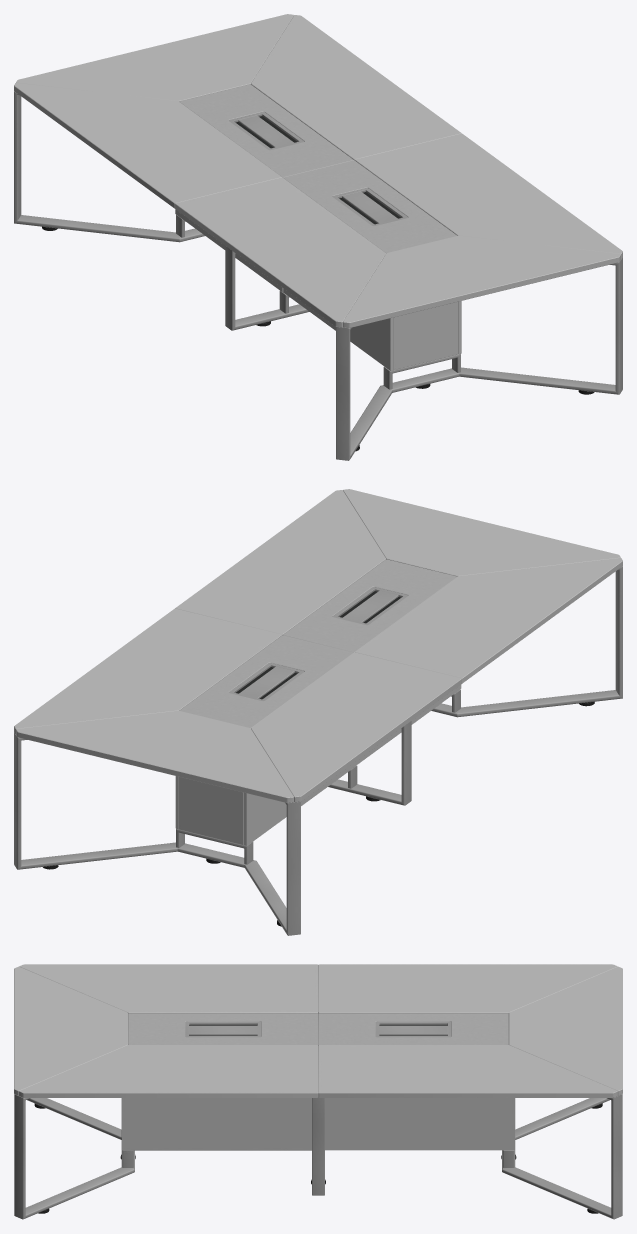
Rendered from Office_Desk_5.glb.
The picture shows the model from 3 angles, top to bottom: view 1: azimuth 30°, elevation 25°; view 2: azimuth 150°, elevation 25°; view 3: azimuth 270°, elevation 25°; orthographic projection. The views are drawn at different scales.
Parts seen in each view (by area): view 1: LAS_12_places_table; view 2: LAS_12_places_table; view 3: LAS_12_places_table.
Boxes of the visible parts, left/top/right/bottom form: LAS_12_places_table: left=14, top=14, right=622, bottom=460; LAS_12_places_table: left=14, top=489, right=622, bottom=935; LAS_12_places_table: left=14, top=964, right=622, bottom=1219.
Bounding box in the file's own units: 1.6 × 0.75 × 3.2.
1 material, 1 textured.
